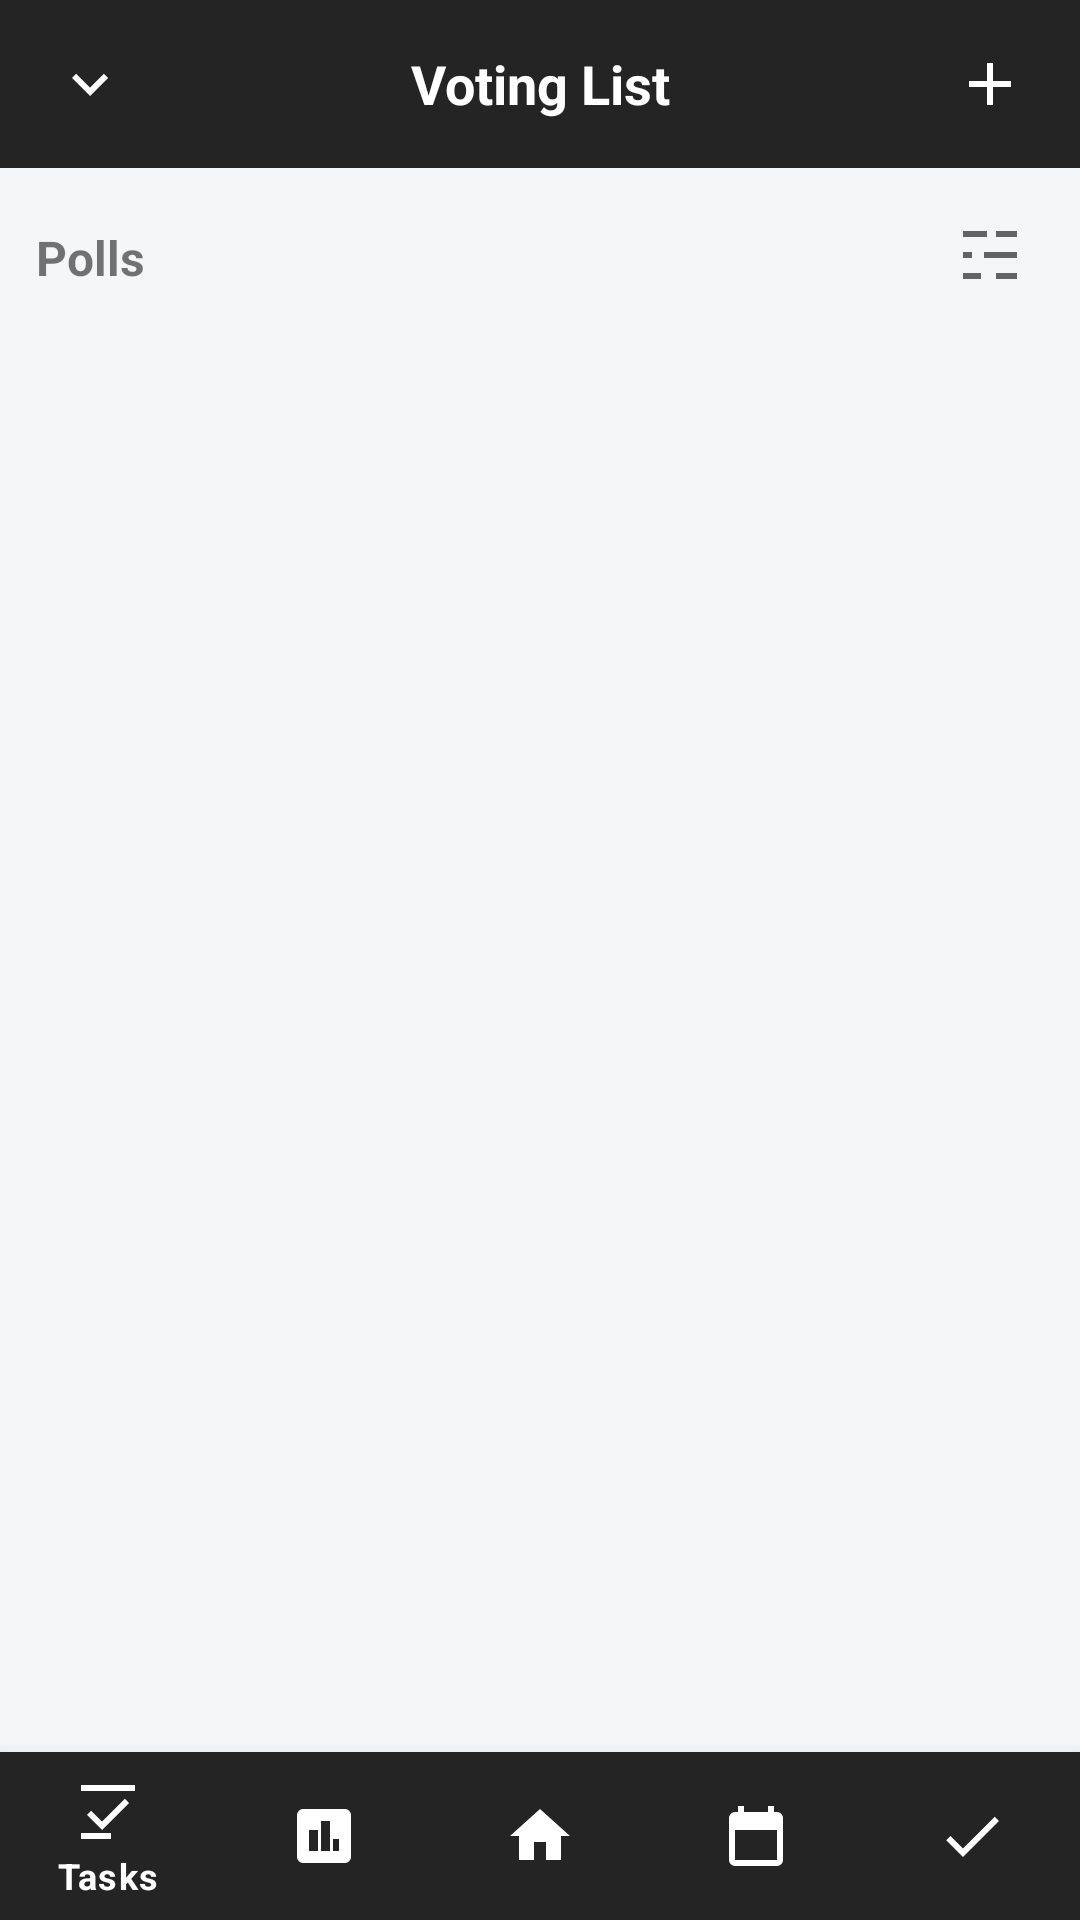

Point at icon controls on the screen. Image size 1080 x 1920, points as (x,y).
Add Poll: (990,84)
Filter: (990,255)
